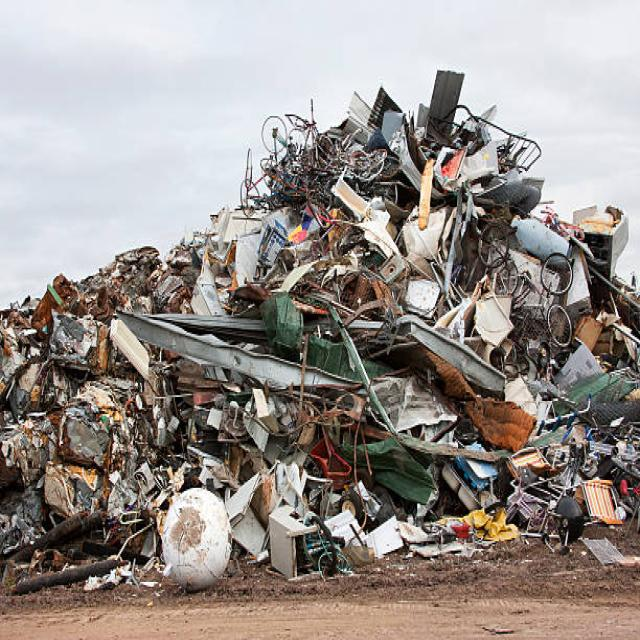trash: (12, 75, 638, 578)
